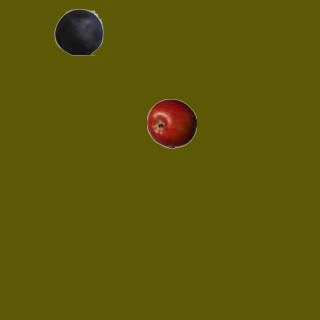Apple Braeburn: (146, 98, 196, 148)
Grape Blue: (53, 6, 103, 56)
